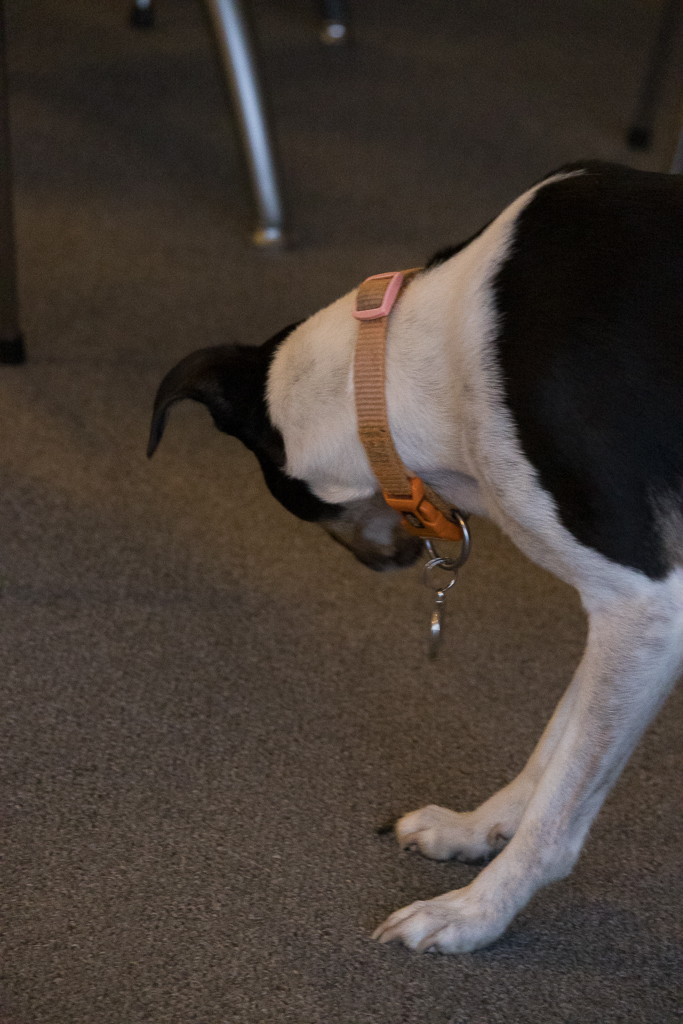Dog: (121, 137, 683, 977)
